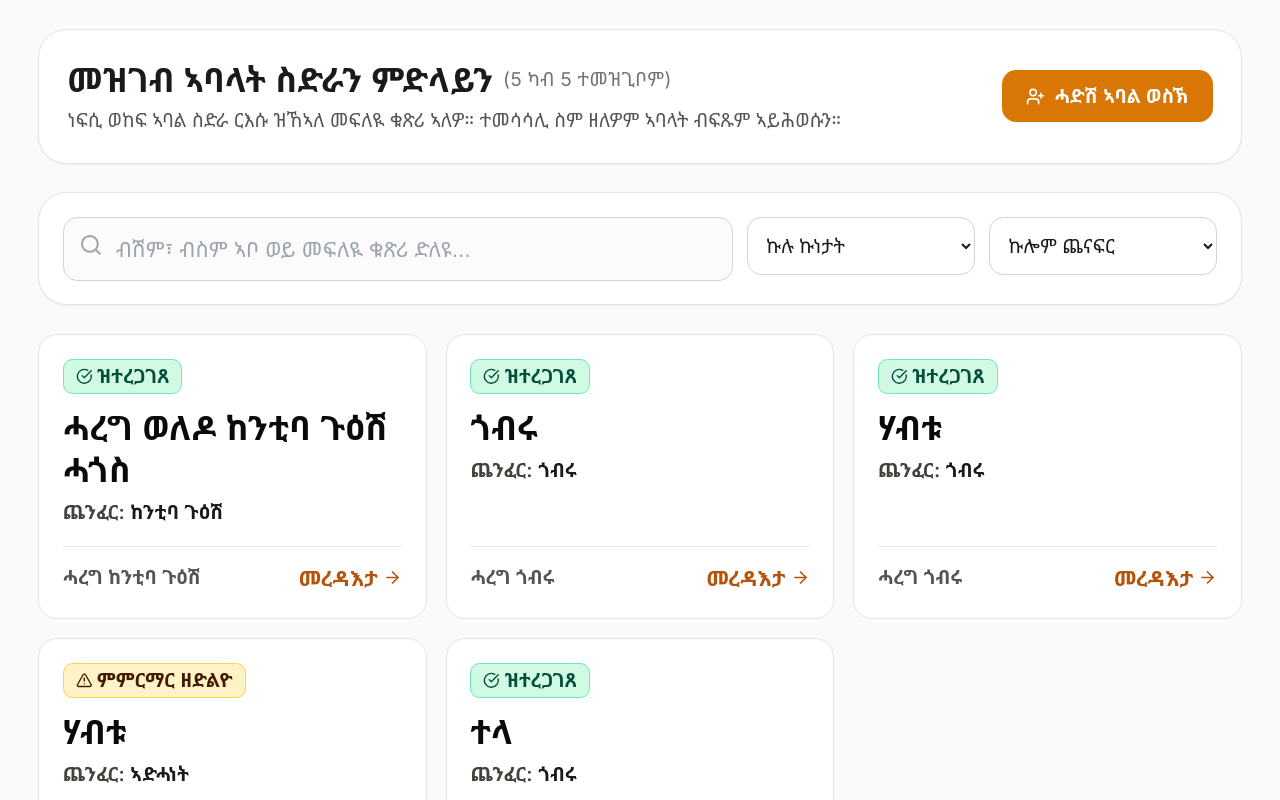
Test: UI Navigation, Tree Interaction, and Safety Verification › 2. Directory: searches Tigrinya names and distinguishes repeated names without merging
This screenshot has width=1280, height=800.
// Search for repeated name 'ሃብቱ'
Type "ሃብቱ" into the field with placeholder "ብሽም፣ ብስም ኣቦ ወይ መፍለዪ ቁጽሪ ድለዩ..." at (398, 249), box [63, 217, 733, 281]
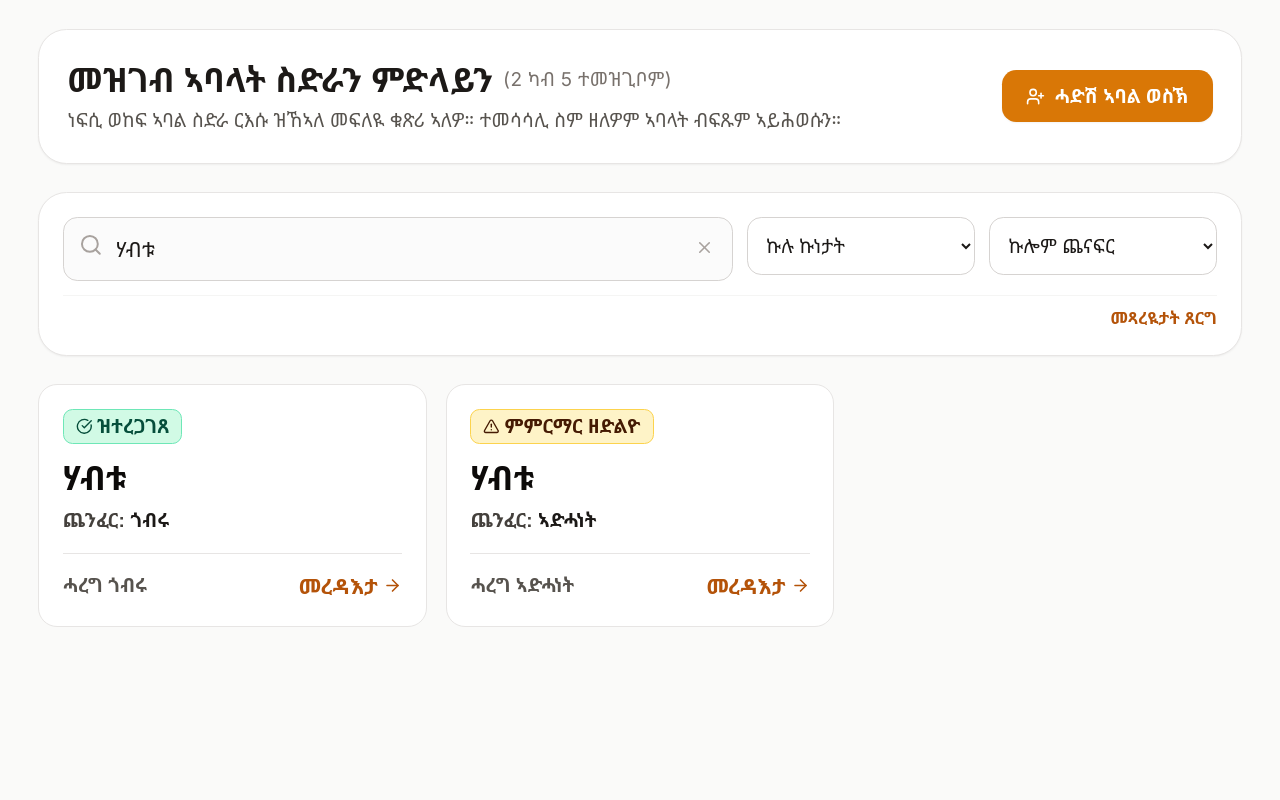
Expected: the text "ጎብሩ" is shown, [130, 507, 170, 533]
Now the number of headings "ሃብቱ" is 2, box [63, 454, 127, 500]; [470, 454, 535, 500]
